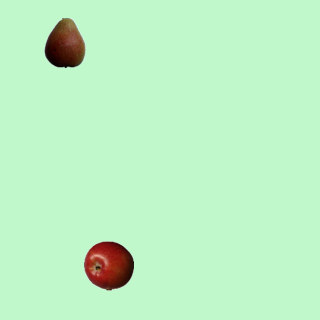Apple Braeburn: (83, 240, 133, 290)
Pear Forelle: (39, 17, 89, 67)
